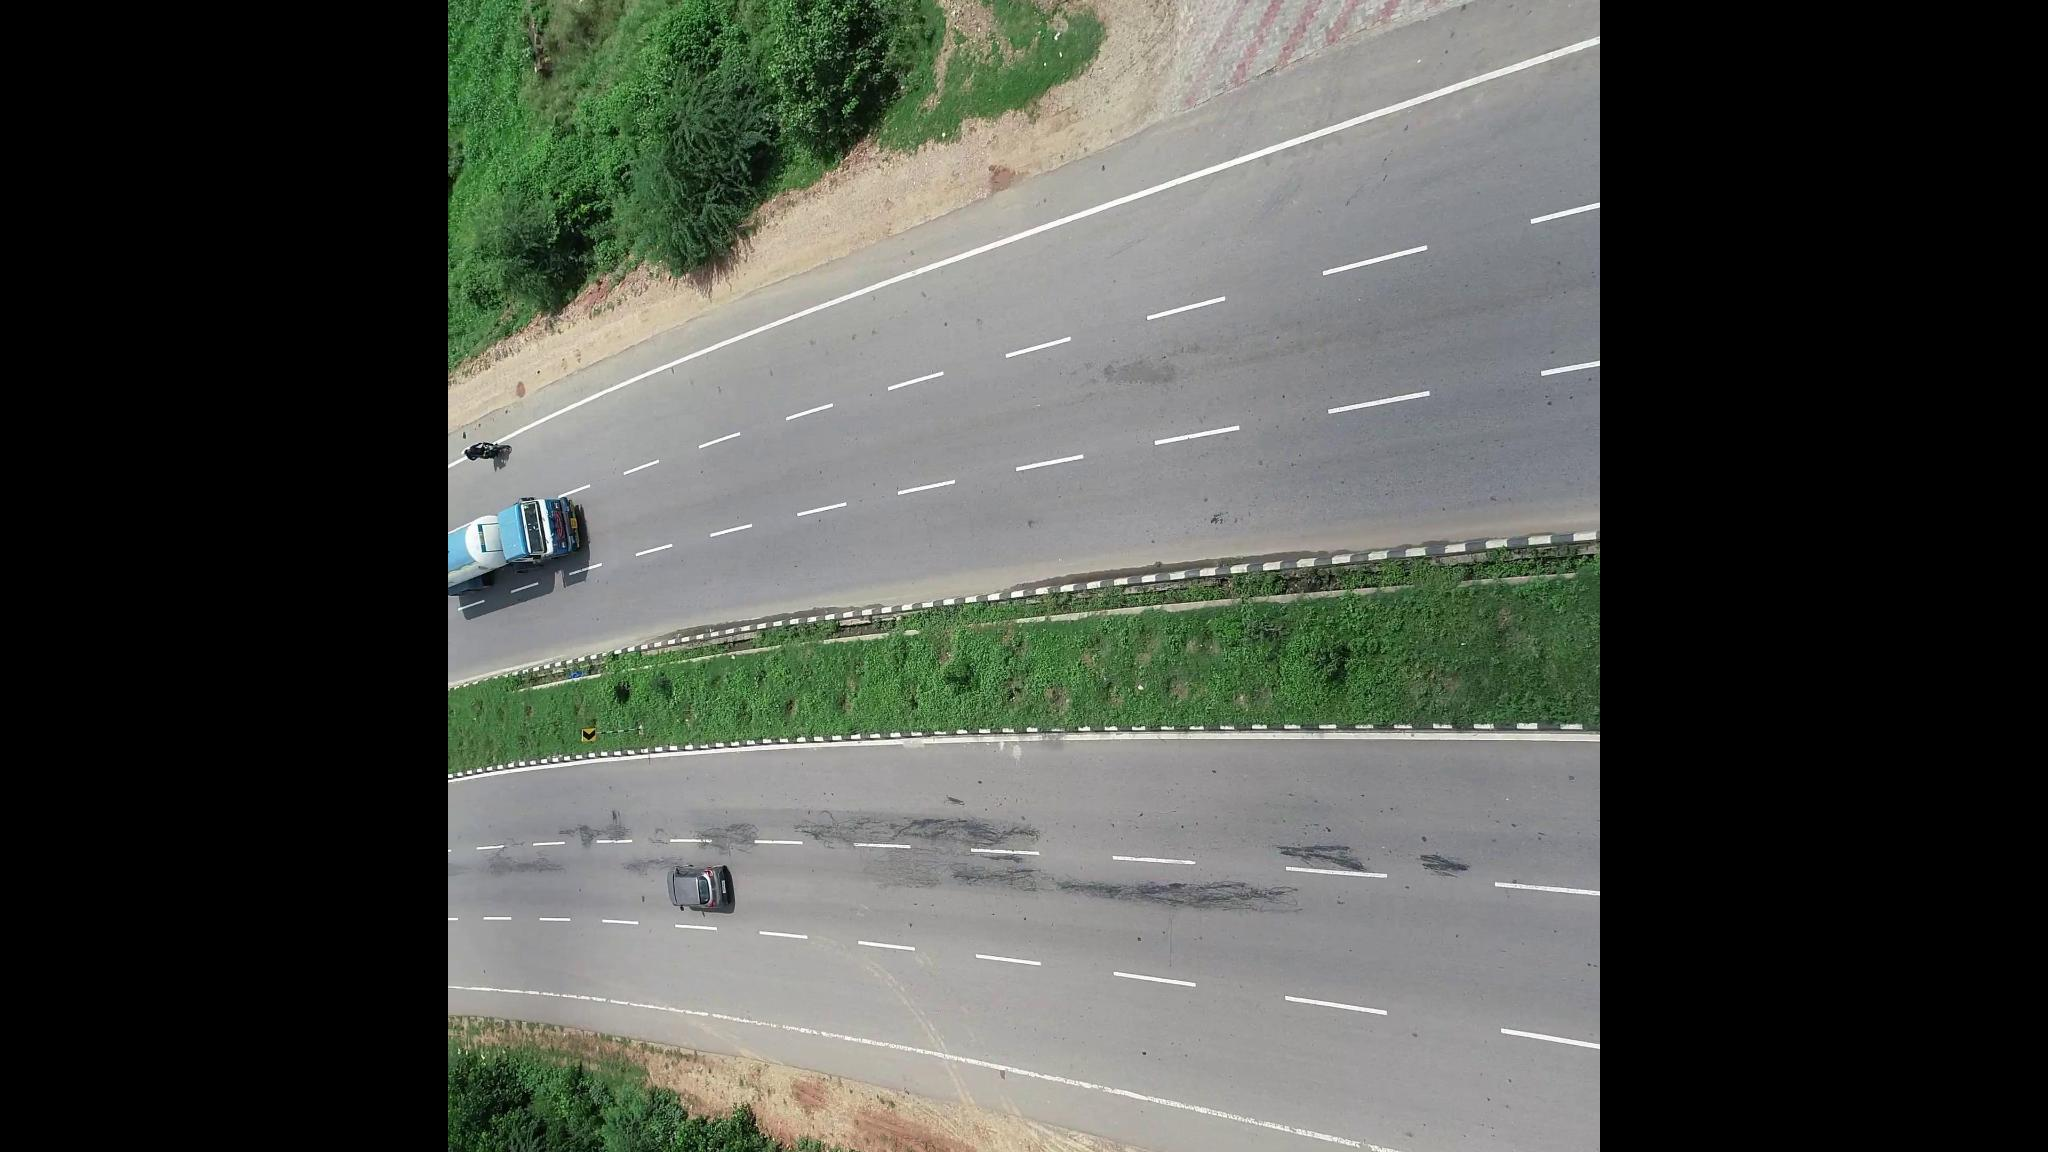Cracks: (807, 812, 1024, 897), (1059, 872, 1295, 921), (1260, 833, 1466, 883), (475, 855, 572, 883), (556, 824, 644, 854), (692, 826, 748, 858)
